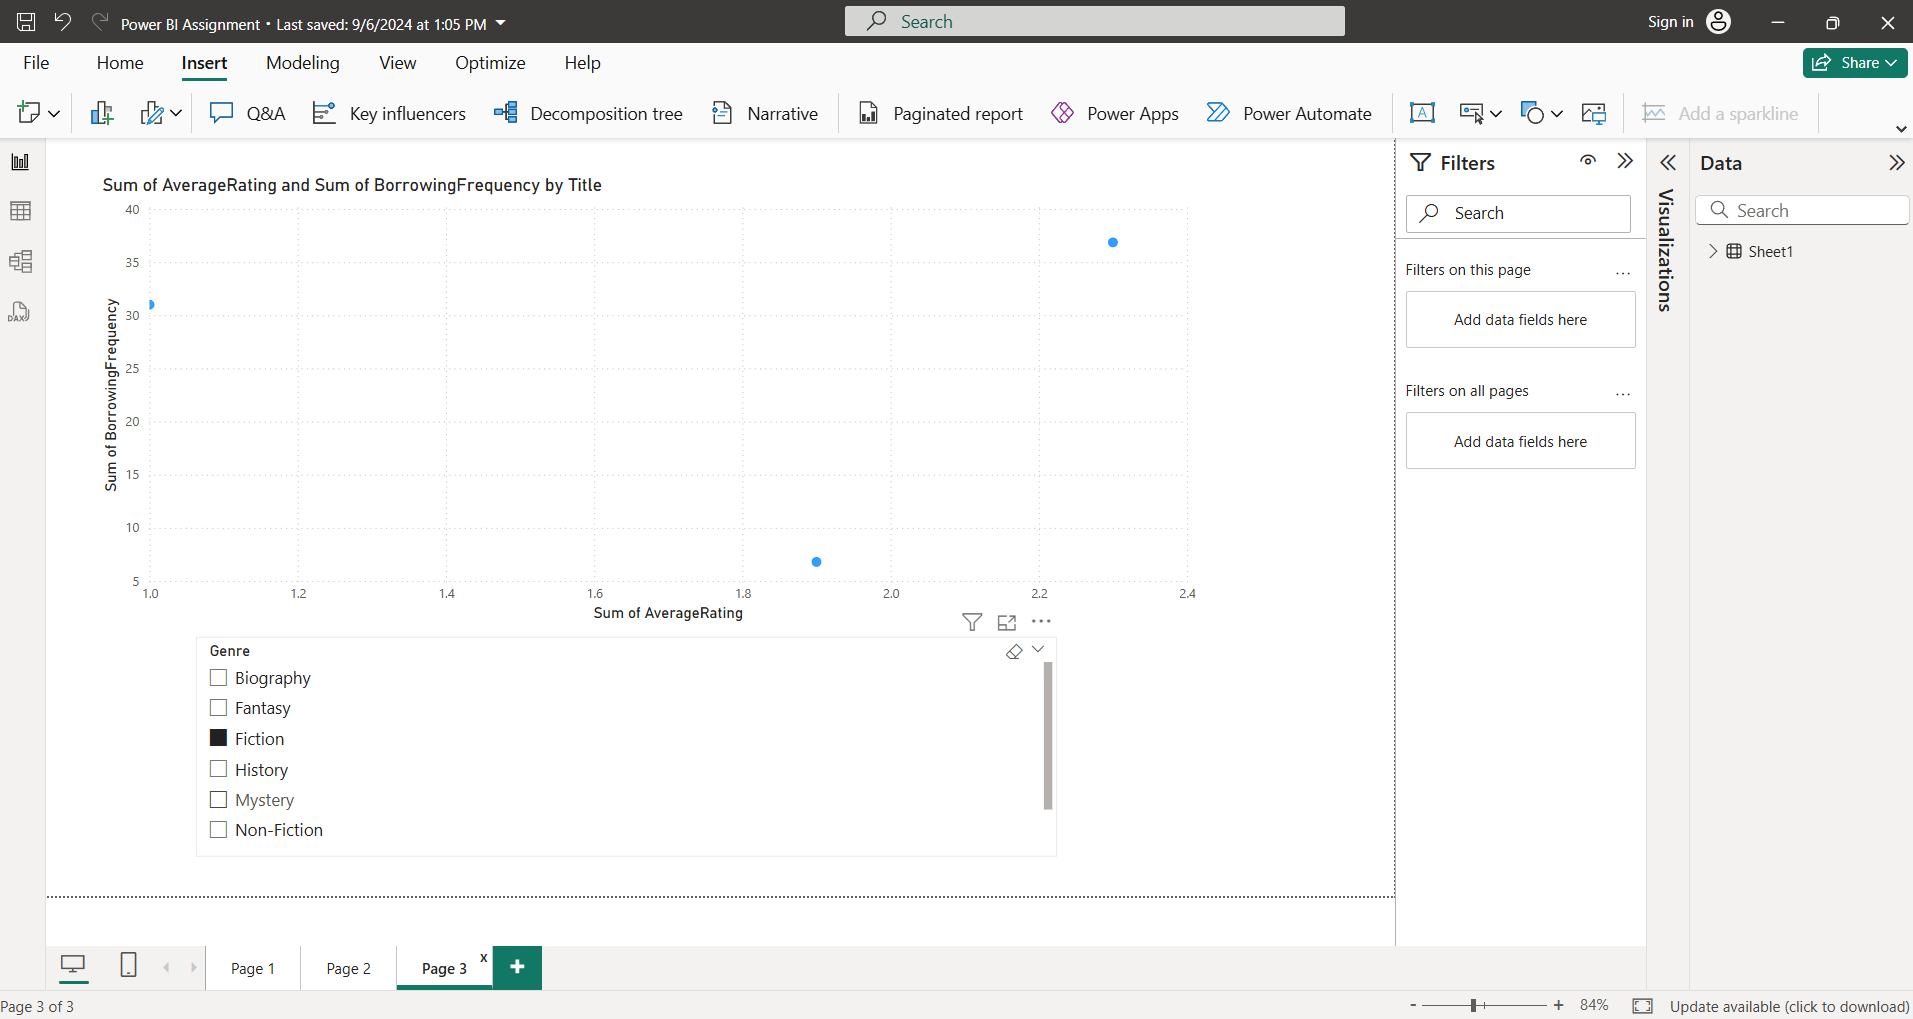

This screenshot's page, from the dashboard's own definition file:
{"tool":"powerbi","page":{"name":"Page 3","canvas":[1280,720],"ordinal":2},"visuals":[{"type":"scatterChart","fields":{"X":["Sheet1.AverageRating"],"Y":["Sheet1.BorrowingFrequency"],"Category":["Sheet1.Title"]},"box":[48.9,34.2,1047.6,430],"z":0},{"type":"slicer","fields":{"Values":["Sheet1.Genre"]},"box":[142,472.8,817.8,209],"z":1000}]}

Visuals, with their boxes on the page's 1280x720 design canvas (x1, y1, x2, y2). These are canvas units, not pixel positions in the 1913x1019 screenshot, which may show the page scaled, cropped or inside an application window:
scatterChart - Sheet1.AverageRating x Sheet1.BorrowingFrequency: l=49, t=34, r=1096, b=464
slicer - Sheet1.Genre: l=142, t=473, r=960, b=682
